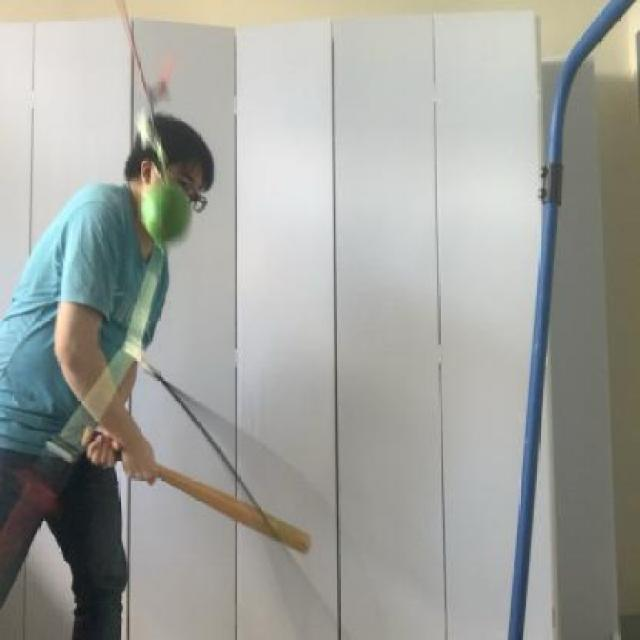baseball: (137, 176, 181, 252)
